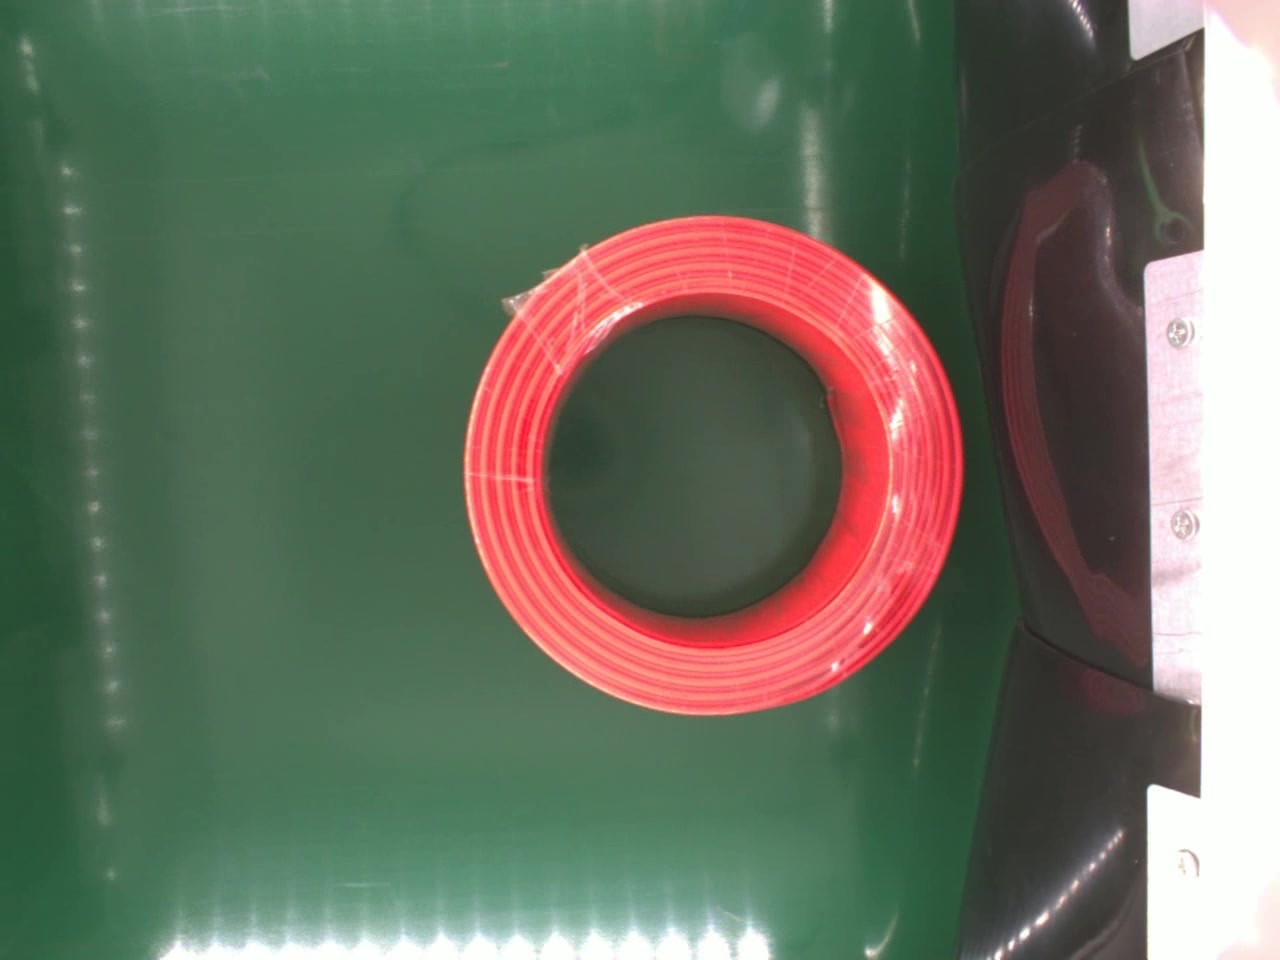red: (460, 211, 966, 725)
